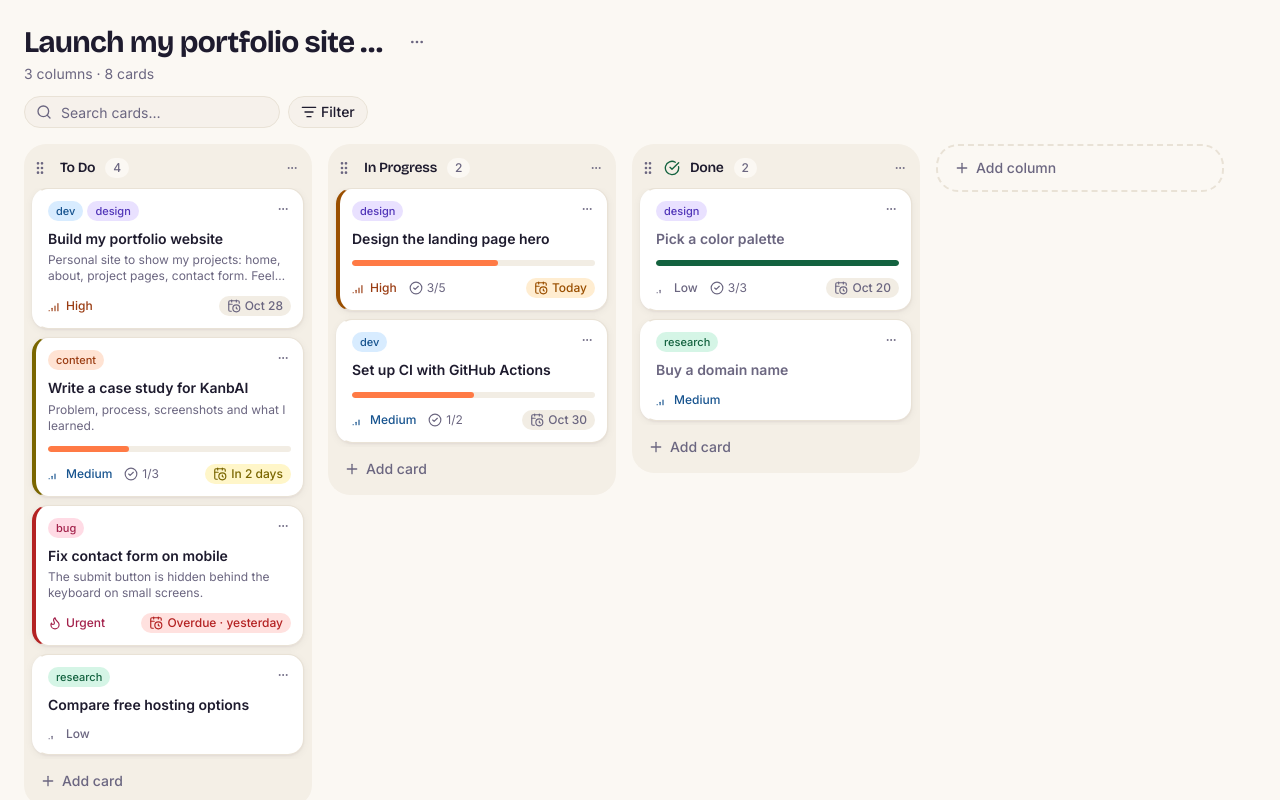
Test: card CRUD › adds several cards in a row with Enter, then closes with Escape
This screenshot has width=1280, height=800.
Click the 1st button "Add card". click: [700, 446]
box: [640,428,912,464]
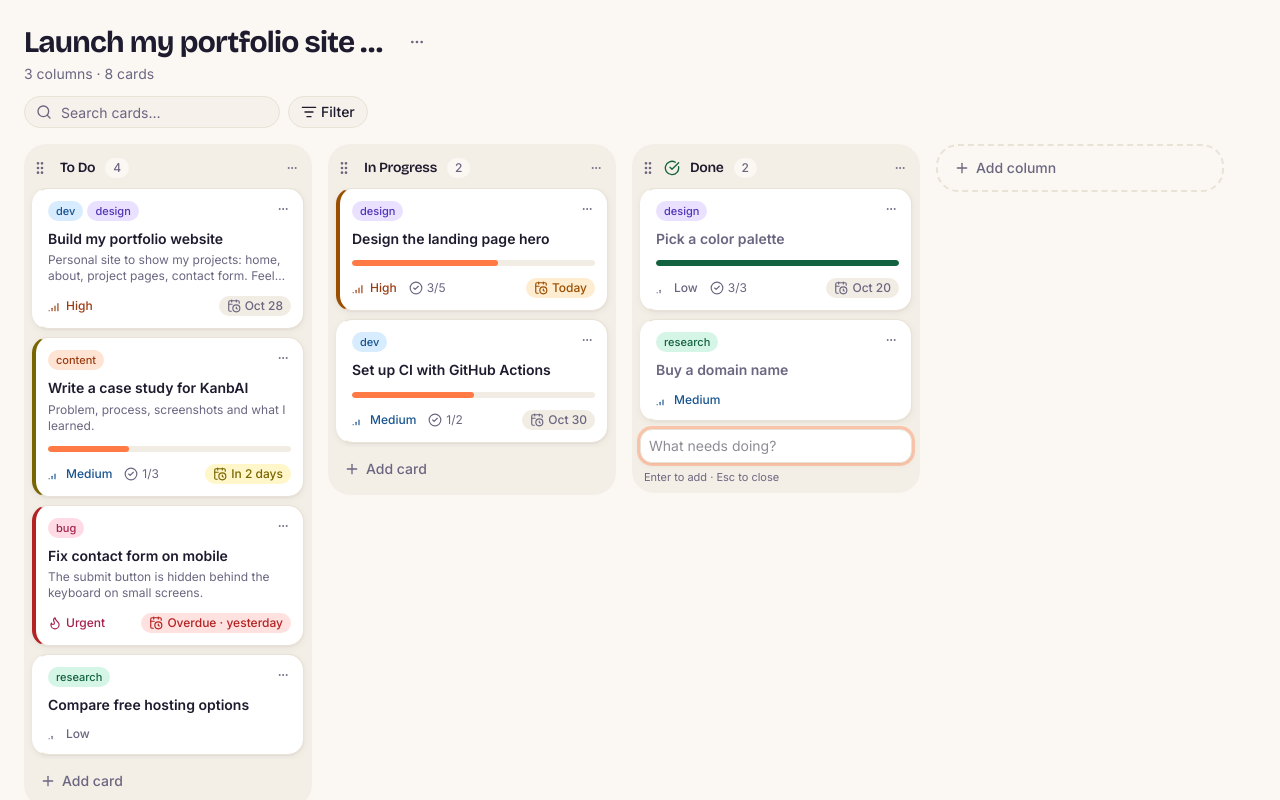
Type "Ship it" into the field named "New card title in Done". click: [776, 446]
box: [640,428,912,462]
Then press Enter
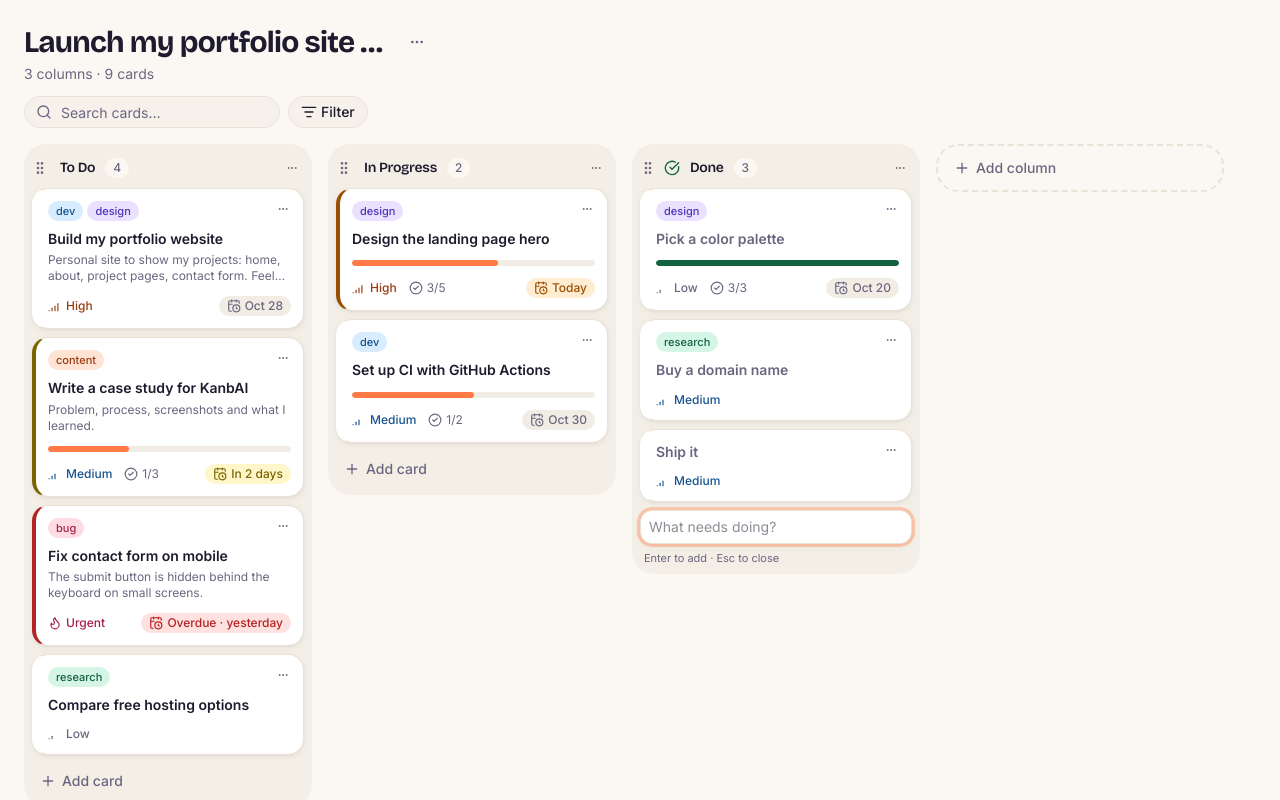
Type "Celebrate" into the field named "New card title in Done". click: [776, 527]
box: [640,510,912,544]
Then press Enter
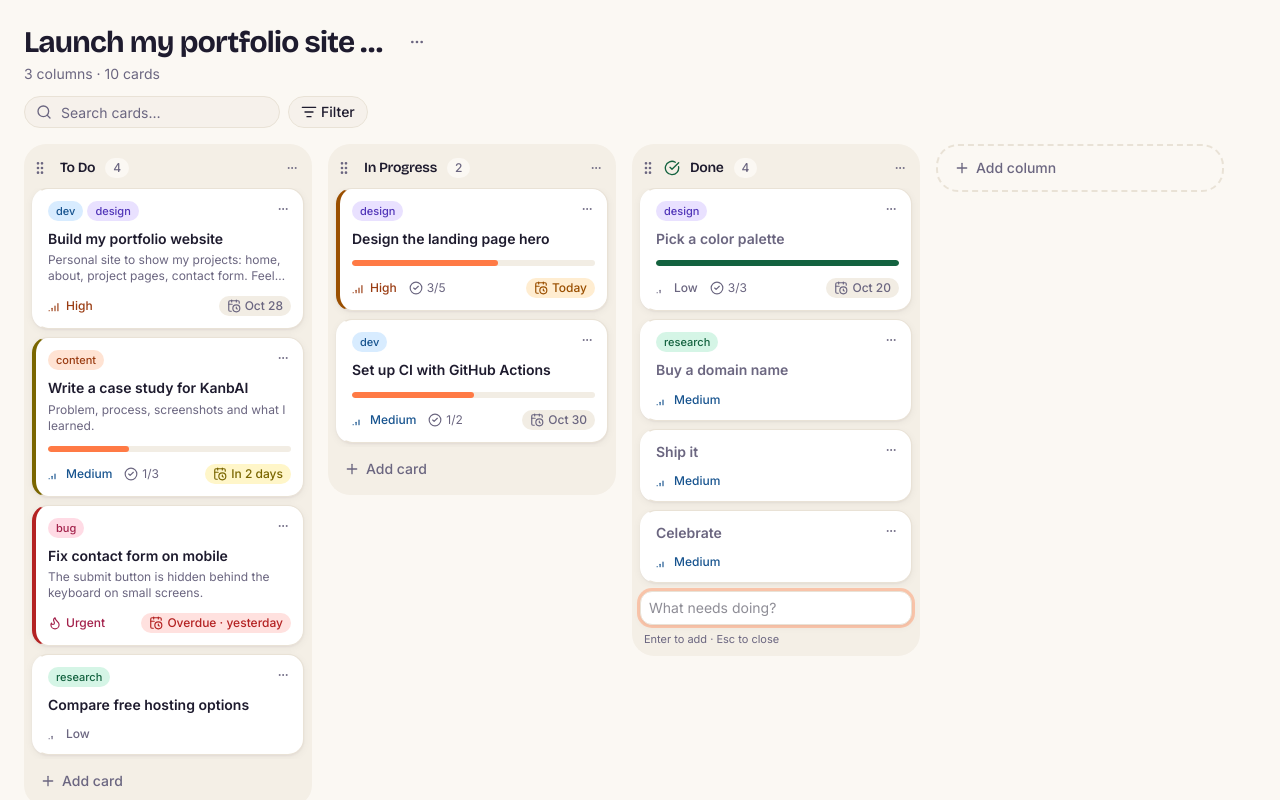
Press Escape
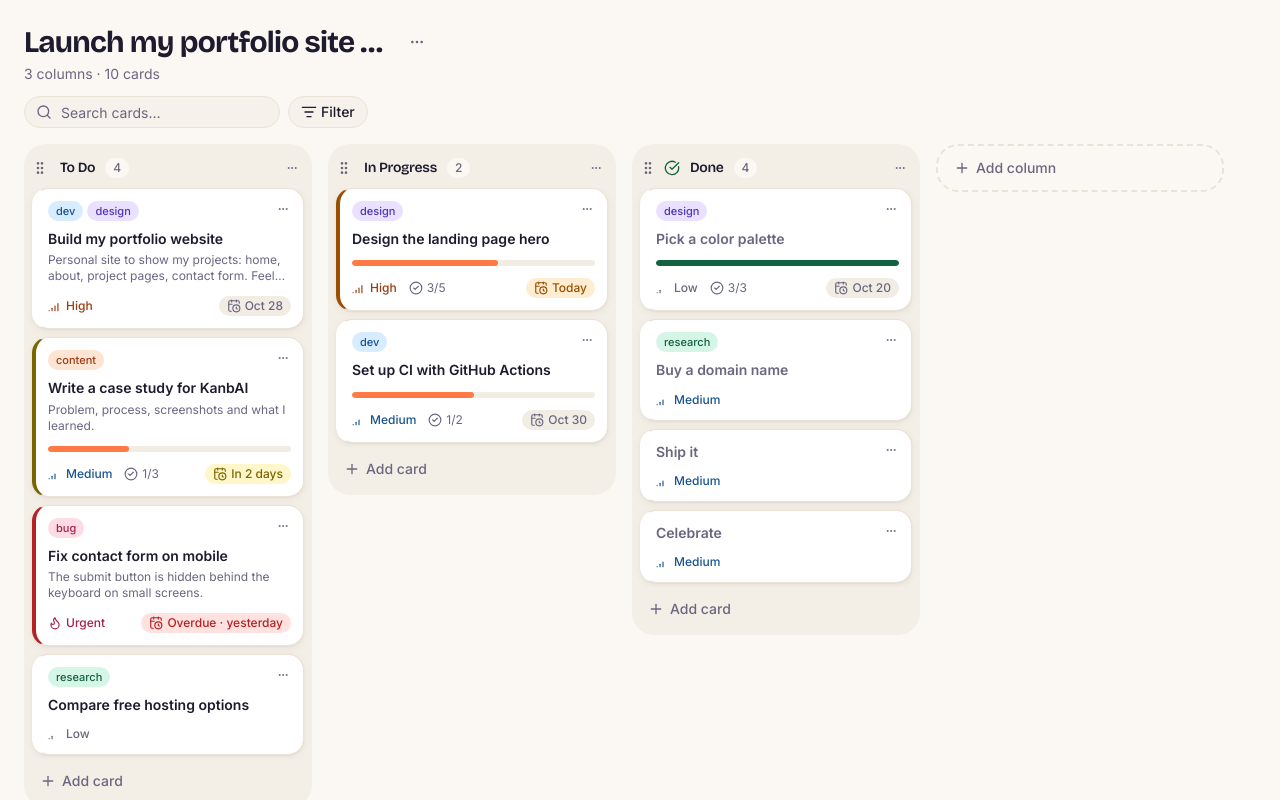
Expected: the field is gone
